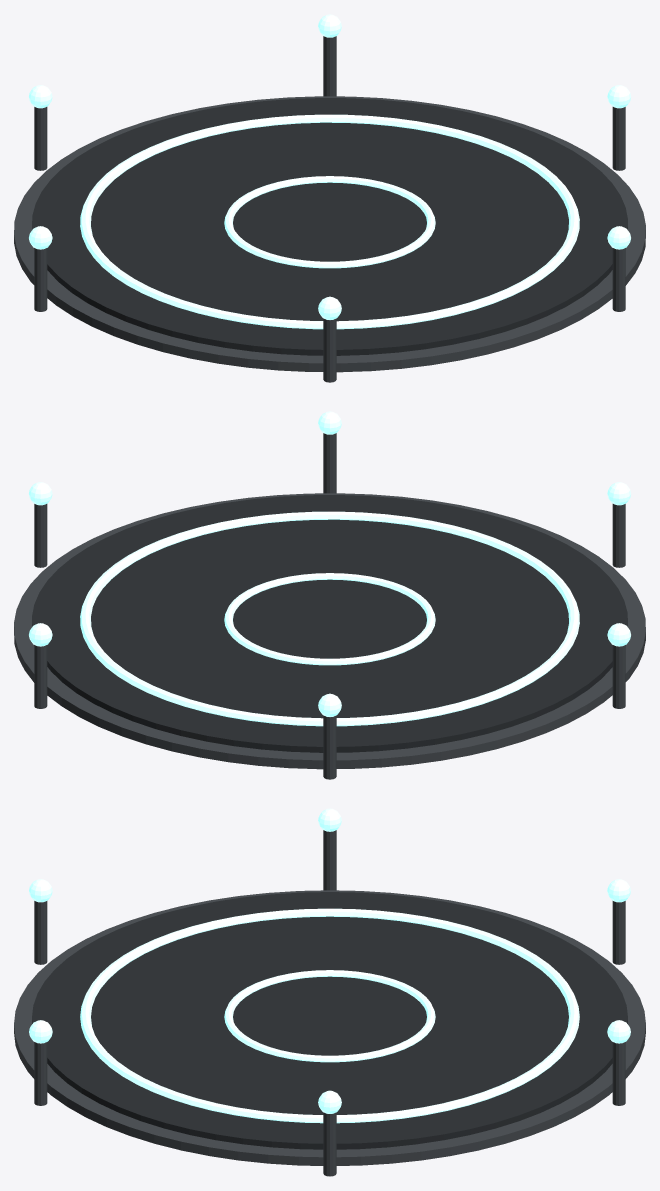
File: moon_pad.glb
3 views of the same model, one above another, from view 1: azimuth 30°, elevation 25°; view 2: azimuth 150°, elevation 25°; view 3: azimuth 270°, elevation 25° (orthographic).
Parts seen in each view (by area): view 1: MoonPad; view 2: MoonPad; view 3: MoonPad.
Boxes of the visible parts, x1,y1,x2,y2 form: MoonPad: (14, 14, 645, 382); MoonPad: (14, 411, 645, 779); MoonPad: (14, 808, 645, 1176).
Bounding box in the file's own units: 12.76 × 1.67 × 11.66.
